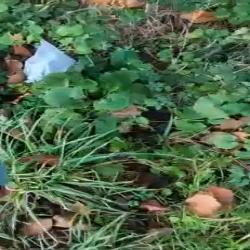Plastic: (24, 39, 76, 83)
